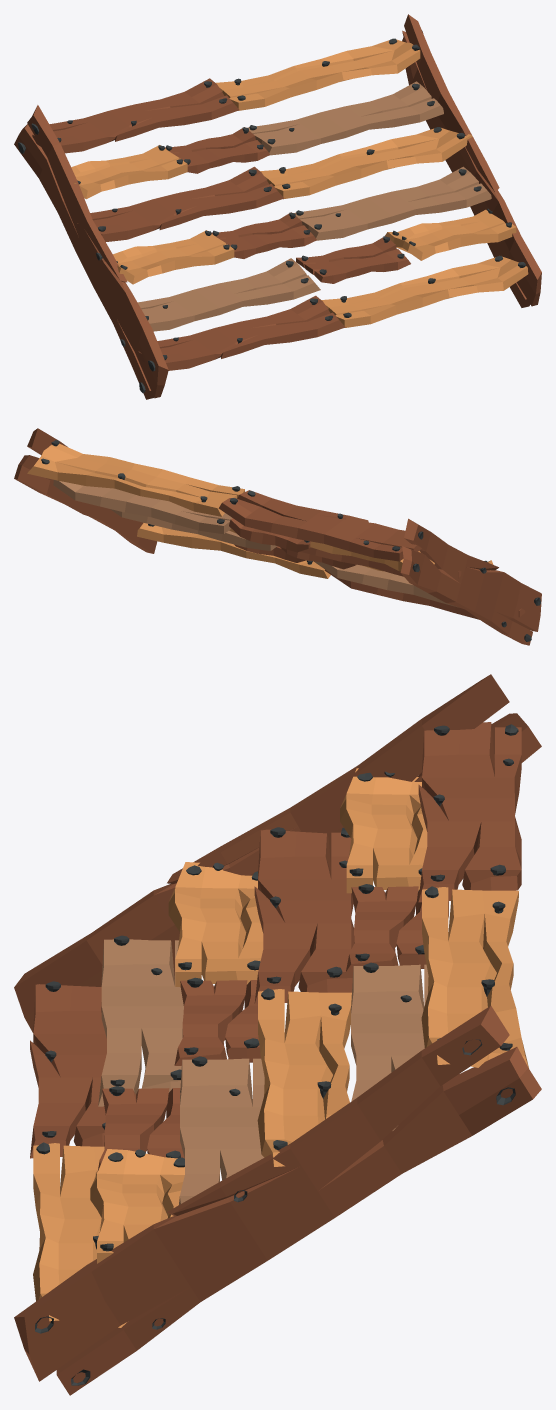
The model's file is MOD_Stairs.fbx.
The picture shows the model from 3 angles, top to bottom: view 1: azimuth 30°, elevation 25°; view 2: azimuth 150°, elevation 25°; view 3: azimuth 270°, elevation 25°; orthographic projection. The views are drawn at different scales.
Parts seen in each view (by area): view 1: MOD_Stairs; view 2: MOD_Stairs; view 3: MOD_Stairs.
Part boxes in pixels (<box>): MOD_Stairs: <box>14,14,541,399</box>; MOD_Stairs: <box>14,428,541,645</box>; MOD_Stairs: <box>14,674,541,1395</box>.
Bounding box in the file's own units: 286 × 144 × 179.
